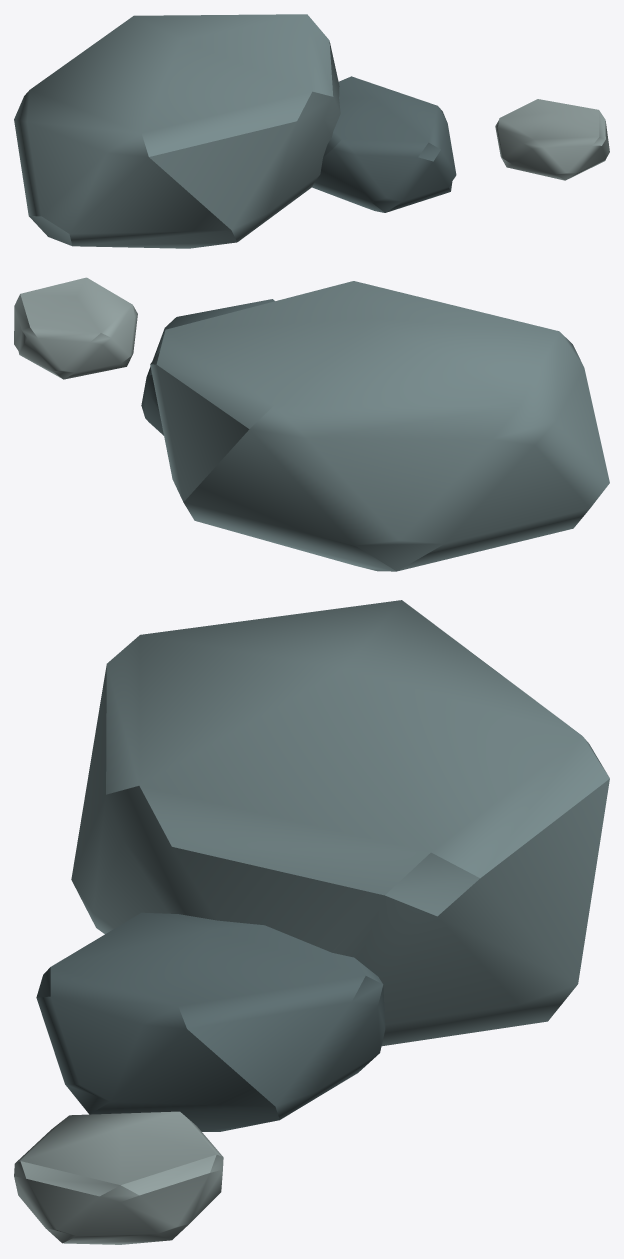
Rendered from prop_uw_rocks_b.glb.
The picture shows the model from 3 angles, top to bottom: view 1: azimuth 30°, elevation 25°; view 2: azimuth 150°, elevation 25°; view 3: azimuth 270°, elevation 25°; orthographic projection. The views are drawn at different scales.
Parts seen in each view (by area): view 1: uwrkb_0, uwrkb_1, uwrkb_2; view 2: uwrkb_0, uwrkb_2, uwrkb_1; view 3: uwrkb_0, uwrkb_1, uwrkb_2.
Boxes of the visible parts, <box> form: uwrkb_0: <box>14,14,340,248</box>; uwrkb_1: <box>312,76,456,212</box>; uwrkb_2: <box>495,99,609,180</box>; uwrkb_0: <box>150,281,609,571</box>; uwrkb_2: <box>14,277,137,379</box>; uwrkb_1: <box>141,299,274,435</box>; uwrkb_0: <box>71,600,609,1046</box>; uwrkb_1: <box>36,912,385,1131</box>; uwrkb_2: <box>14,1111,223,1244</box>.
Size of the model in its own units: 0.8169 by 0.3019 by 0.4425.
